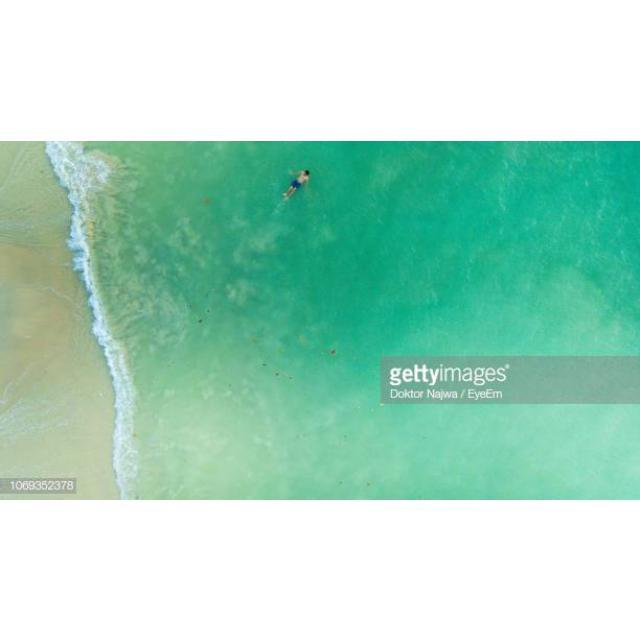human: (283, 166, 311, 200)
